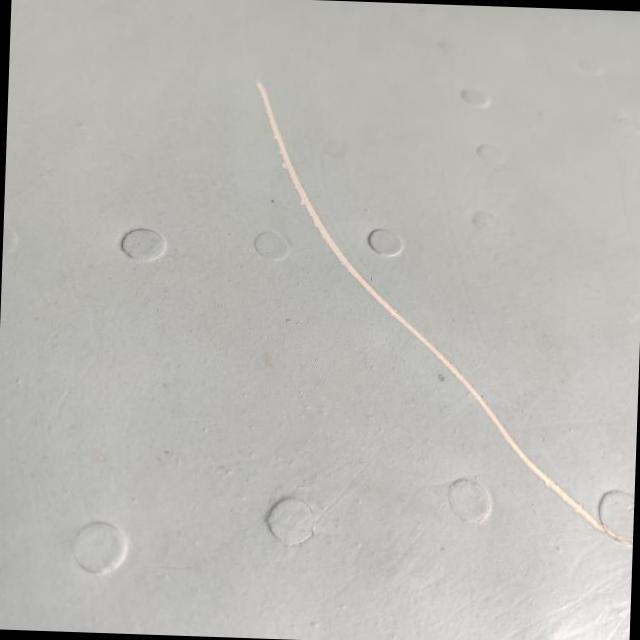Scratch: (256, 84, 626, 549)
